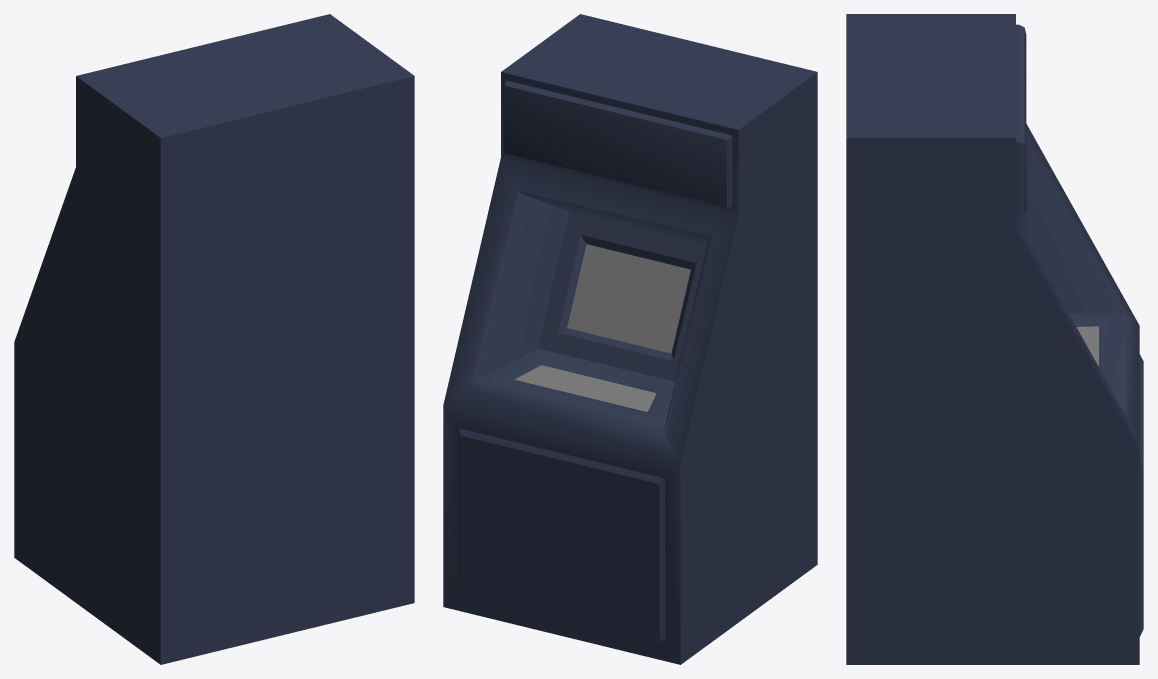
The model's file is SM_Atm.fbx.
3 views of the same model, side by side, from view 1: azimuth 30°, elevation 25°; view 2: azimuth 150°, elevation 25°; view 3: azimuth 270°, elevation 25° (orthographic). The views are drawn at different scales.
Visible parts, largest first — view 1: ATM; view 2: ATM; view 3: ATM.
Boxes of the visible parts, <box> form: ATM: <box>14,14,414,664</box>; ATM: <box>443,14,817,664</box>; ATM: <box>846,14,1143,664</box>.
Size of the model in its own units: 30 by 59.47 by 30.39.
